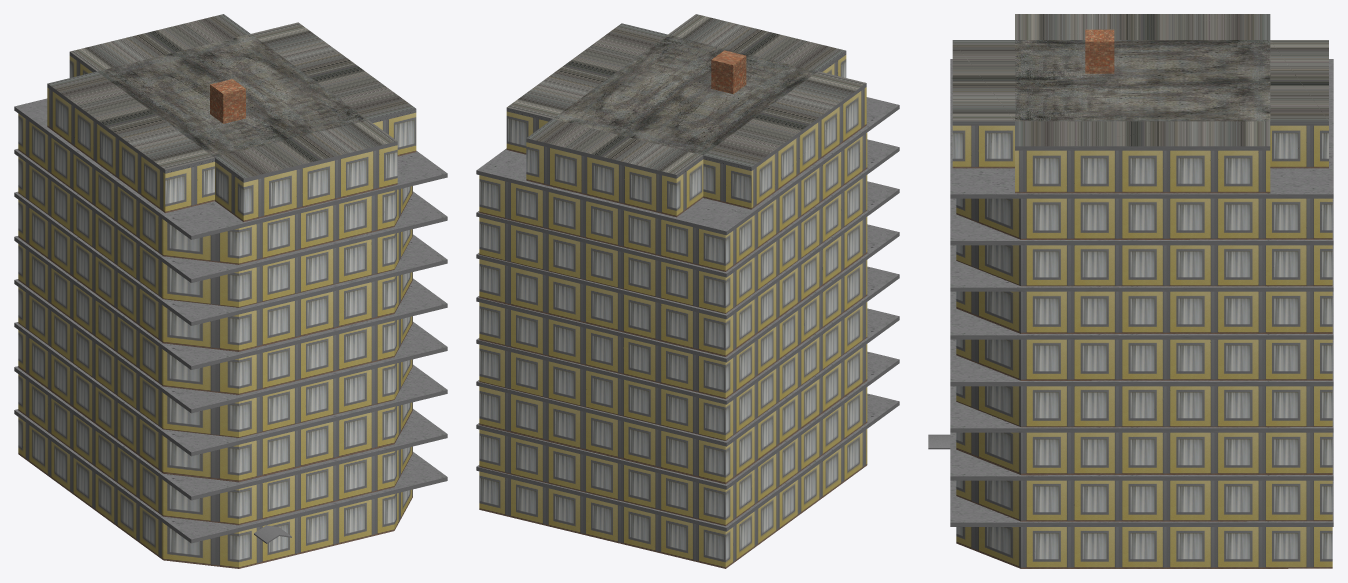
The model's file is LOD01_Building_9stores_House.obj.
3 views of the same model, side by side, from view 1: azimuth 30°, elevation 25°; view 2: azimuth 150°, elevation 25°; view 3: azimuth 270°, elevation 25° (orthographic). The views are drawn at different scales.
Parts seen in each view (by area): view 1: LOD01_Building_9stores_House; view 2: LOD01_Building_9stores_House; view 3: LOD01_Building_9stores_House.
Part boxes in pixels (<box>): LOD01_Building_9stores_House: <box>14,14,447,568</box>; LOD01_Building_9stores_House: <box>476,14,899,568</box>; LOD01_Building_9stores_House: <box>928,14,1333,568</box>.
Bounding box in the file's own units: 6.69 × 10.48 × 8.46.
